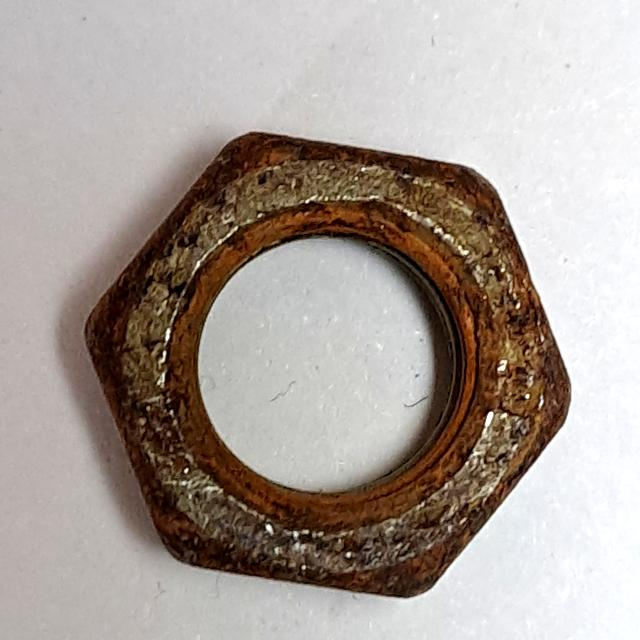Rust: (72, 122, 586, 614)
